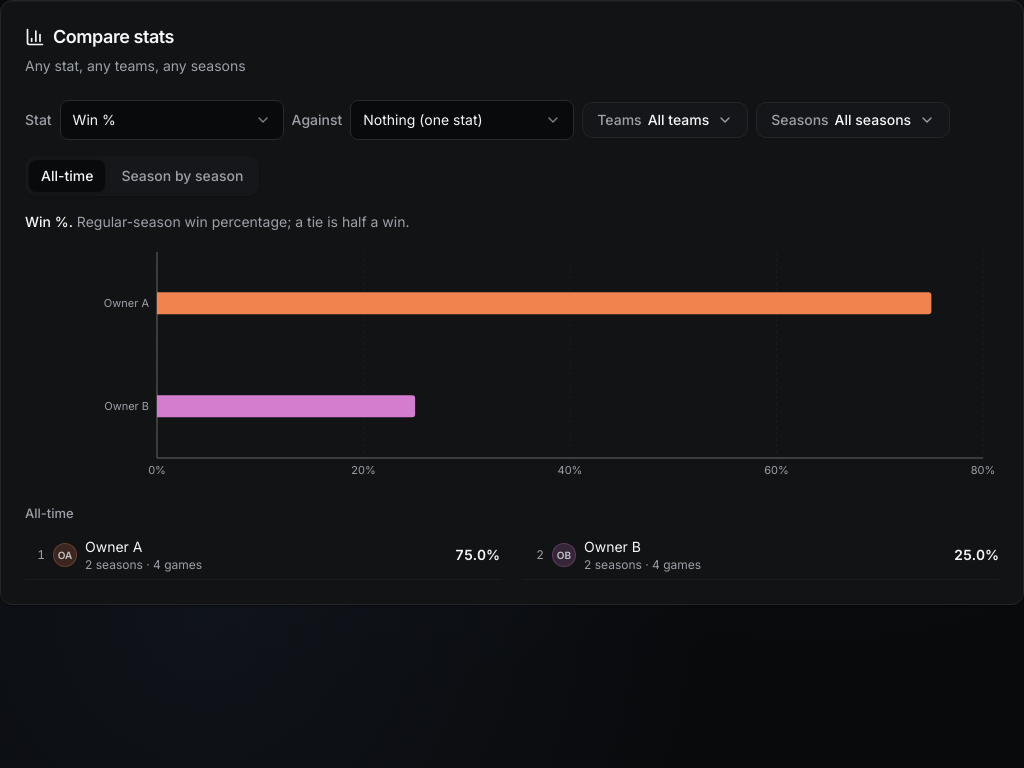
Test: StatComparison › offers week by week once one season is picked
Click the button with aria-label "Seasons: All seasons" at point(853, 120), box [756,102,950,138]
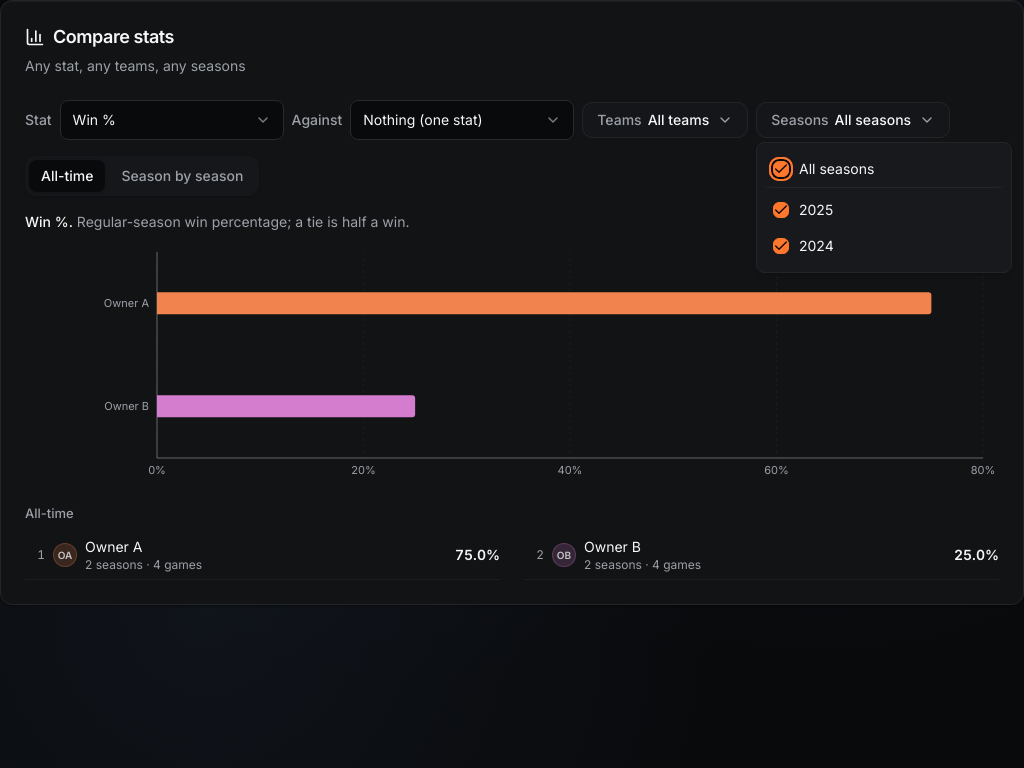
Click the 1st checkbox named "All seasons" at point(781, 169), box [773,161,789,177]
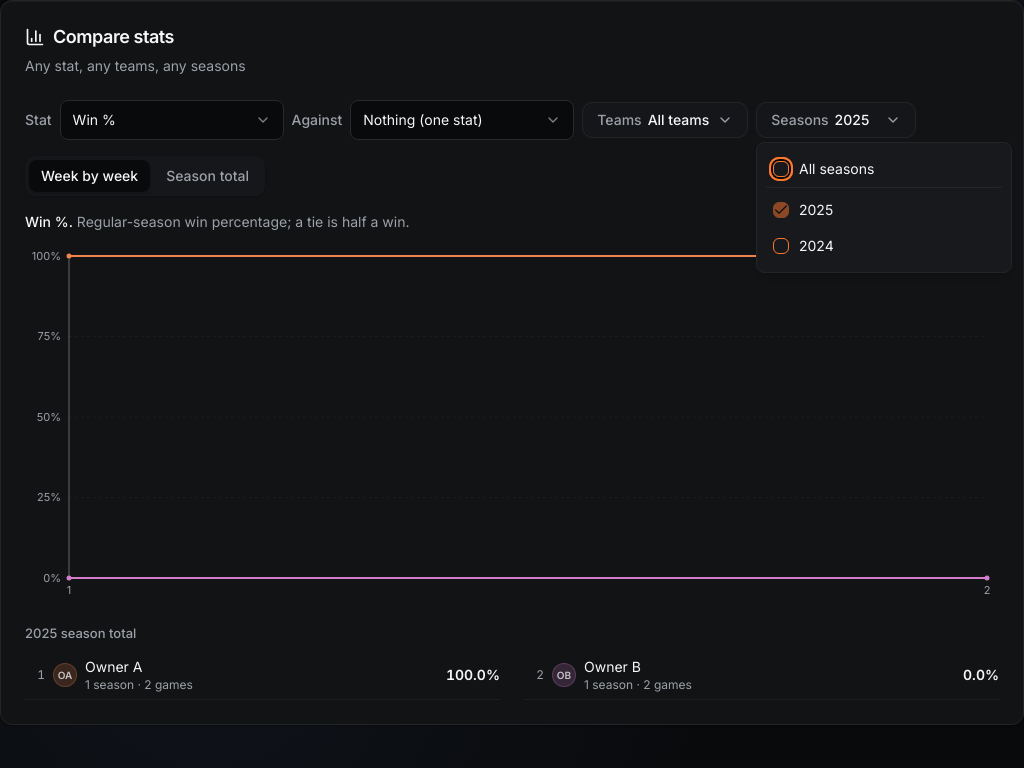
Check: the tab "Week by week" is shown, box [29,160,150,192]
Check: the text "2025 season total" is shown, box [25,625,136,641]
Check: the list item "1 OA Owner A 1 season · 2 games 100.0%" is shown, box [25,651,500,700]
